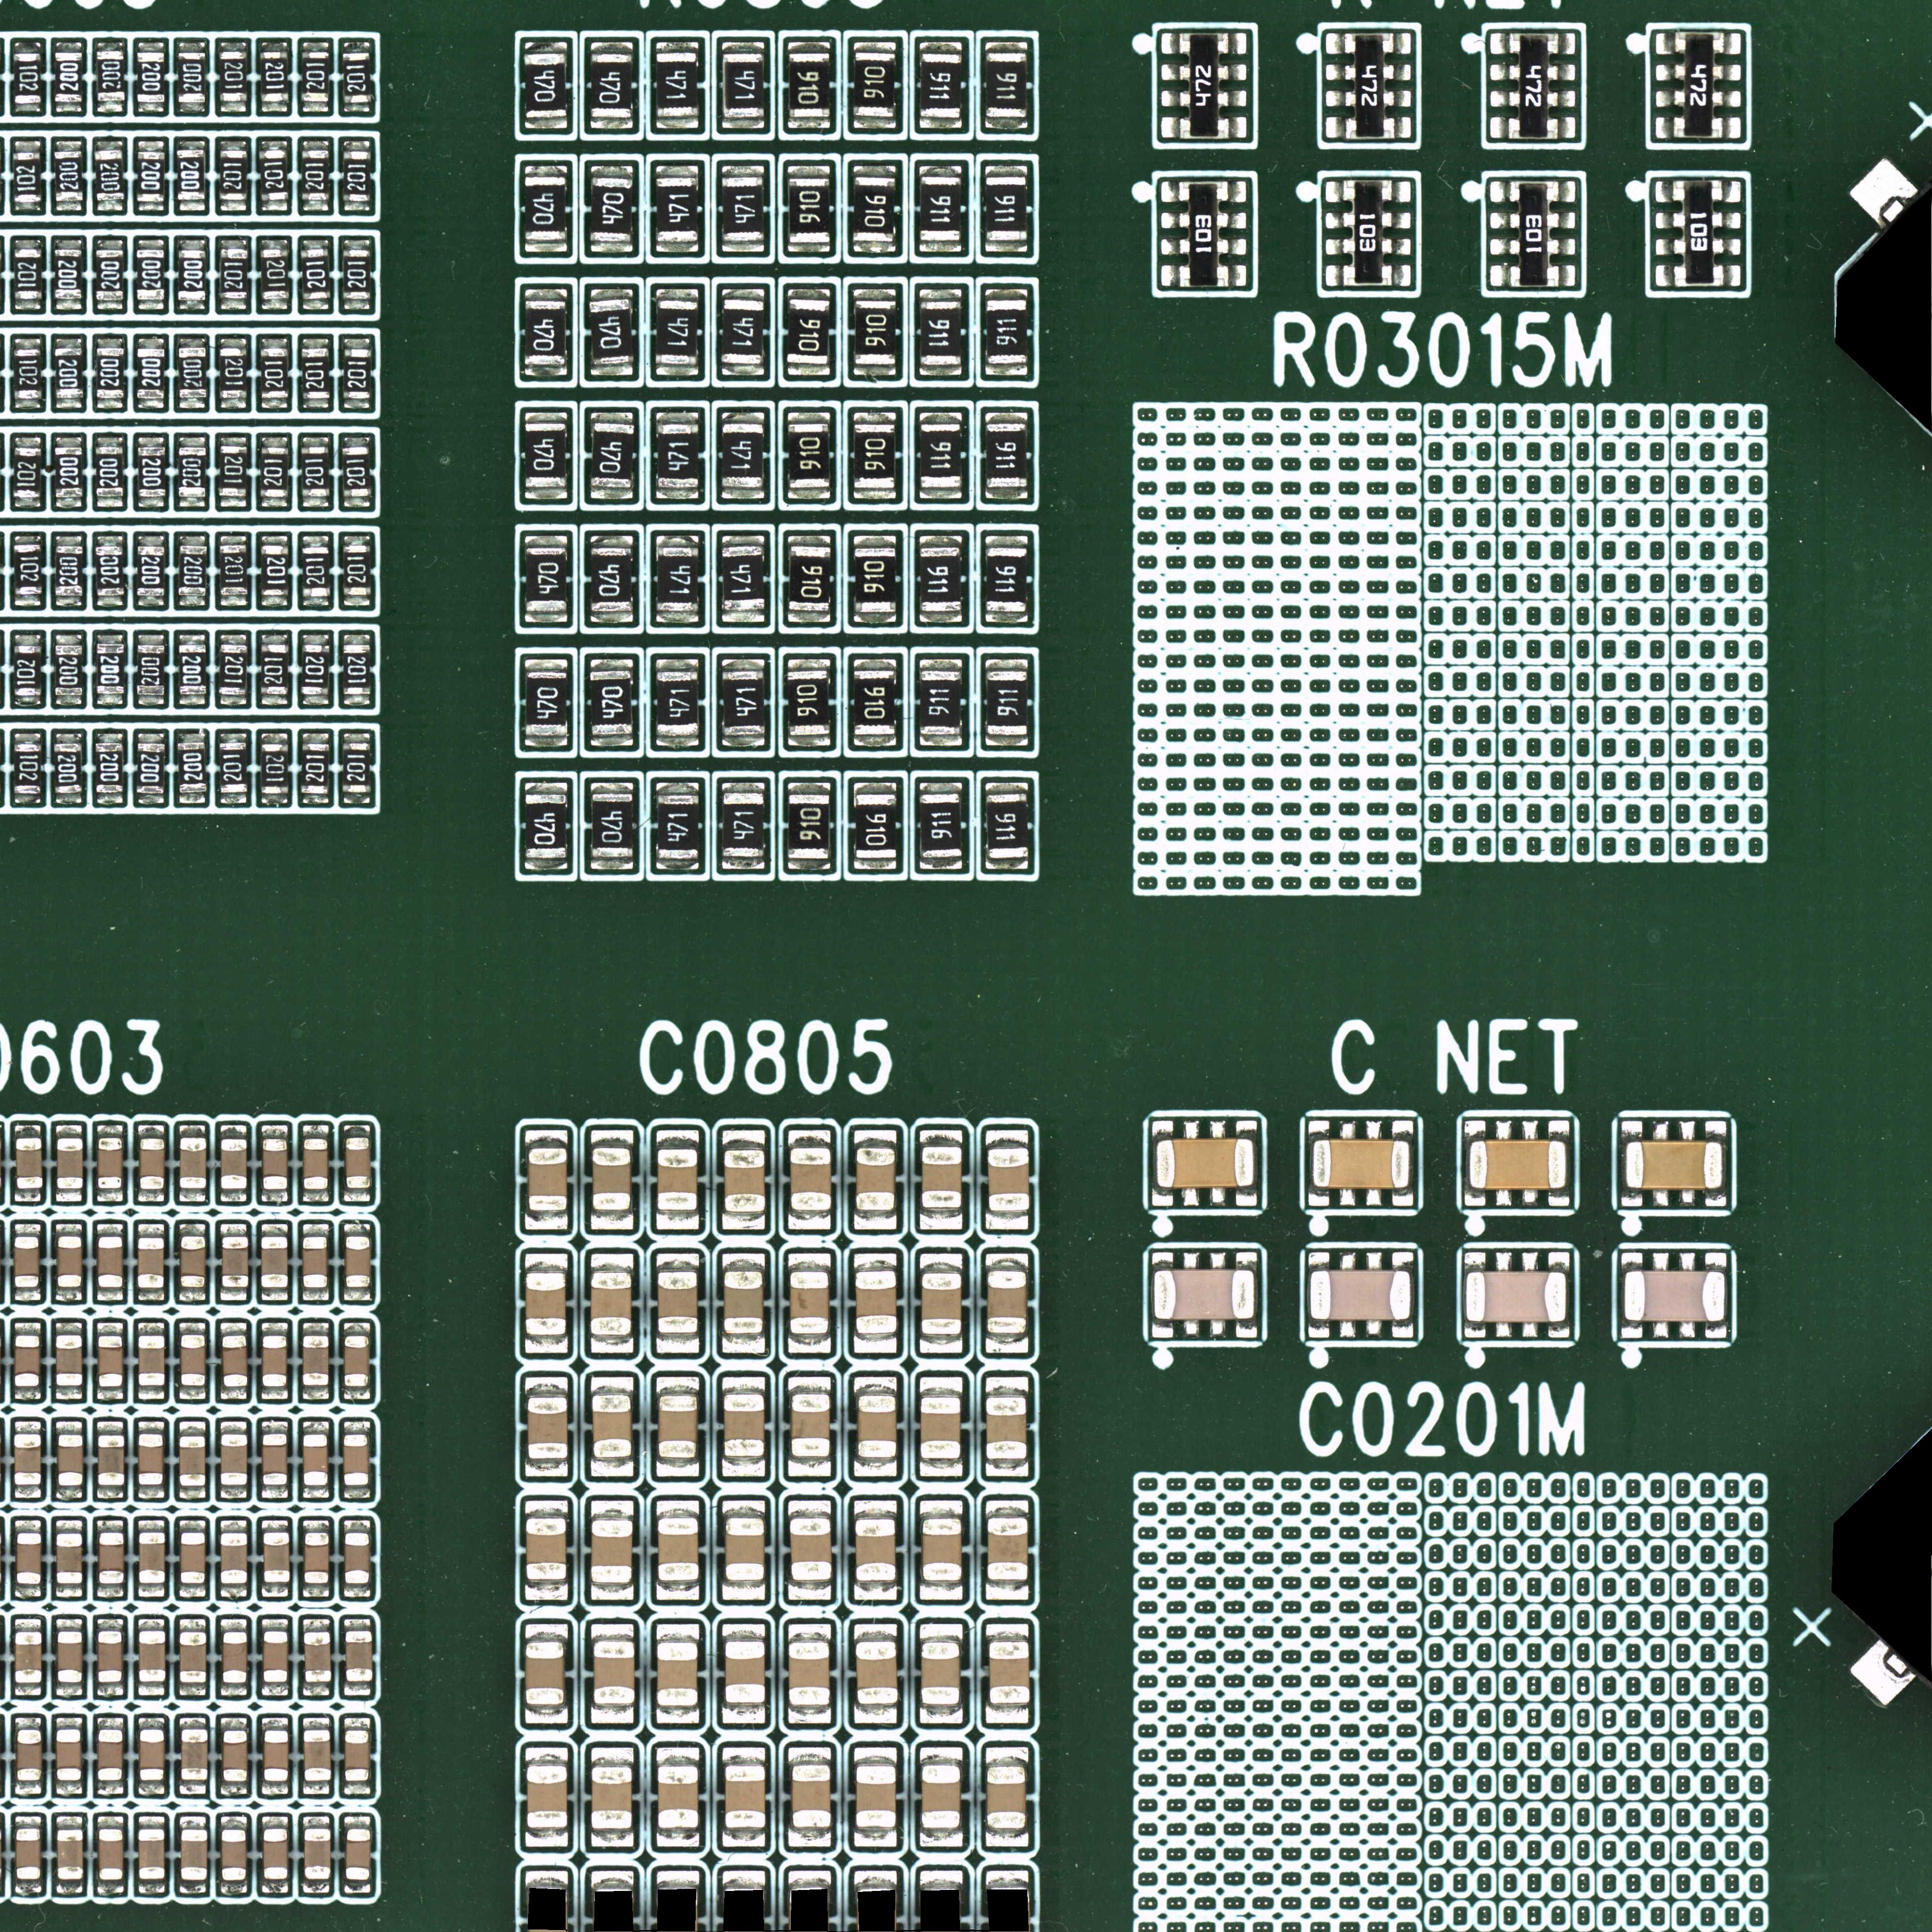Package: (1178, 182, 1230, 290), (1178, 34, 1230, 138), (1672, 182, 1723, 285), (1509, 182, 1559, 288), (1674, 32, 1723, 138), (1343, 180, 1392, 285), (1509, 34, 1559, 138), (1345, 34, 1394, 138), (1624, 1270, 1723, 1322), (1311, 1270, 1410, 1320), (1467, 1272, 1566, 1322), (1155, 1270, 1253, 1318), (1626, 1141, 1721, 1189), (1470, 1141, 1566, 1189), (1313, 1139, 1408, 1187), (1157, 1139, 1253, 1187), (589, 53, 633, 119), (655, 53, 699, 117), (656, 794, 699, 860), (656, 671, 699, 736), (722, 53, 764, 119), (787, 671, 830, 736), (722, 177, 764, 242), (591, 423, 633, 488), (591, 793, 633, 858), (589, 671, 632, 736), (722, 671, 764, 736), (787, 299, 830, 364), (525, 793, 568, 858), (656, 547, 699, 612), (525, 671, 568, 736), (589, 299, 632, 364), (722, 299, 764, 364), (722, 793, 764, 858), (722, 547, 764, 612), (524, 301, 566, 366), (985, 299, 1028, 364), (985, 671, 1028, 736), (655, 179, 697, 242), (656, 425, 699, 488), (855, 794, 897, 858), (985, 794, 1028, 858), (593, 1642, 635, 1706), (987, 1148, 1030, 1212), (789, 423, 830, 488), (722, 423, 763, 488), (789, 794, 830, 860), (591, 177, 632, 242), (920, 177, 961, 242), (920, 53, 961, 119), (920, 794, 961, 860), (525, 423, 566, 488), (591, 547, 632, 612), (920, 547, 961, 612), (525, 53, 566, 119), (525, 547, 566, 612), (920, 301, 961, 366), (656, 301, 697, 366), (985, 423, 1026, 488), (985, 547, 1026, 612), (855, 1272, 897, 1334), (789, 1148, 832, 1210), (724, 1766, 766, 1828), (855, 425, 895, 488), (855, 53, 895, 117), (855, 671, 895, 734), (855, 177, 895, 241), (789, 179, 830, 242), (789, 53, 830, 117), (920, 425, 961, 488), (855, 548, 895, 612), (920, 671, 961, 734), (525, 177, 566, 241), (855, 301, 895, 364), (789, 547, 830, 610), (985, 177, 1026, 241), (985, 53, 1026, 117), (791, 1518, 832, 1582), (658, 1518, 699, 1582), (591, 1272, 632, 1336), (789, 1642, 830, 1706), (525, 1272, 566, 1336), (856, 1642, 897, 1706), (920, 1396, 961, 1460), (922, 1518, 962, 1582), (591, 1520, 632, 1583), (985, 1396, 1026, 1460), (985, 1766, 1026, 1829), (656, 1272, 697, 1334), (789, 1272, 830, 1334), (656, 1644, 697, 1706), (855, 1520, 895, 1582), (527, 1398, 568, 1460), (525, 1518, 566, 1580), (922, 1146, 962, 1208), (791, 1766, 832, 1828), (527, 1766, 568, 1828), (527, 1148, 568, 1210), (856, 1396, 897, 1458), (656, 1148, 697, 1210), (658, 1766, 699, 1828), (591, 1767, 632, 1829), (724, 1150, 764, 1212), (724, 1394, 764, 1456), (987, 1518, 1028, 1580), (989, 1642, 1030, 1704), (725, 1518, 764, 1582), (922, 1642, 961, 1706), (525, 1642, 564, 1706), (724, 1270, 763, 1334), (658, 1396, 697, 1460), (791, 1394, 830, 1458), (987, 1270, 1026, 1334), (922, 1274, 961, 1336), (593, 1148, 632, 1210), (593, 1396, 632, 1458), (856, 1766, 895, 1828), (856, 1148, 895, 1210), (725, 1642, 764, 1704), (922, 1766, 961, 1828), (14, 1433, 42, 1486), (14, 1631, 42, 1684), (177, 51, 205, 103), (136, 51, 165, 103), (96, 150, 124, 202), (55, 545, 83, 596), (179, 347, 207, 398), (96, 249, 124, 301), (179, 545, 207, 596), (221, 1237, 249, 1288), (260, 1237, 288, 1288), (179, 1631, 207, 1683), (303, 1730, 331, 1782), (138, 1532, 166, 1583), (138, 1631, 166, 1683), (219, 1532, 248, 1583), (97, 1435, 126, 1486), (179, 1138, 207, 1189), (55, 1336, 83, 1387), (262, 1433, 288, 1486), (55, 1729, 81, 1782), (260, 349, 288, 398), (96, 349, 124, 398), (96, 547, 124, 596), (219, 150, 248, 200), (136, 249, 165, 299), (219, 545, 248, 594), (177, 150, 205, 200), (14, 545, 42, 594), (96, 644, 124, 694), (136, 547, 165, 596), (345, 1631, 373, 1681), (219, 644, 246, 695), (260, 644, 287, 695), (219, 446, 246, 497), (55, 150, 81, 202), (179, 249, 205, 301), (138, 644, 165, 695), (303, 644, 329, 695), (96, 446, 122, 497), (343, 545, 370, 596), (343, 644, 370, 695), (303, 349, 329, 400), (262, 545, 288, 596), (14, 743, 41, 794), (303, 743, 329, 794), (14, 53, 41, 104), (179, 741, 205, 793), (138, 743, 165, 794), (180, 1829, 207, 1881), (221, 1435, 248, 1486), (304, 1631, 331, 1683), (14, 1237, 41, 1288), (180, 1729, 207, 1780), (343, 1532, 370, 1583), (221, 1631, 248, 1683), (262, 1631, 288, 1683), (138, 1237, 165, 1288), (57, 1237, 83, 1288), (16, 1138, 42, 1189), (303, 1435, 329, 1486), (57, 1138, 83, 1189), (57, 1631, 83, 1683), (57, 1435, 83, 1486), (264, 1532, 290, 1583), (16, 1730, 42, 1782), (97, 1532, 124, 1583), (97, 1631, 124, 1683), (221, 1730, 248, 1782), (97, 1237, 124, 1288), (138, 1433, 165, 1484), (221, 1336, 248, 1387), (14, 1336, 41, 1387), (57, 1534, 83, 1585), (97, 1729, 124, 1780), (97, 1336, 124, 1387), (55, 448, 81, 497), (55, 646, 81, 695), (14, 152, 41, 202), (221, 249, 248, 299), (55, 249, 81, 299), (179, 644, 205, 694), (179, 448, 205, 497), (260, 448, 287, 497), (219, 51, 246, 101), (262, 249, 288, 299), (14, 249, 41, 299), (55, 53, 81, 103), (138, 448, 165, 497), (14, 349, 41, 398), (14, 646, 41, 695), (14, 448, 41, 497), (303, 150, 329, 200), (260, 150, 287, 200), (303, 547, 329, 596), (219, 349, 246, 398), (303, 51, 329, 101), (343, 249, 370, 299), (343, 53, 370, 103), (262, 745, 288, 794), (55, 349, 81, 398), (303, 249, 329, 299), (343, 743, 370, 793), (97, 51, 124, 101), (343, 349, 370, 398), (343, 448, 370, 497), (55, 743, 81, 793), (96, 743, 122, 793), (343, 152, 370, 202), (138, 349, 165, 398), (138, 152, 165, 202), (219, 743, 246, 793), (179, 1437, 205, 1486), (262, 1139, 288, 1189), (345, 1829, 372, 1879), (138, 1829, 165, 1879), (138, 1730, 165, 1780), (303, 1139, 329, 1189), (221, 1139, 248, 1189), (343, 1730, 370, 1780), (303, 1336, 329, 1385), (343, 1336, 370, 1385), (304, 1829, 331, 1879), (57, 1829, 83, 1879), (138, 1336, 165, 1385), (16, 1532, 41, 1585), (221, 1829, 246, 1881), (180, 1237, 205, 1288), (303, 1237, 327, 1288), (343, 1435, 368, 1486), (180, 1532, 205, 1583), (180, 1334, 205, 1385), (262, 1336, 287, 1387), (97, 1138, 122, 1189), (304, 1532, 329, 1583), (264, 1730, 288, 1782), (262, 51, 287, 101), (303, 448, 327, 497), (345, 1237, 370, 1286), (264, 1829, 288, 1879), (16, 1829, 41, 1879), (345, 1138, 370, 1187), (140, 1139, 165, 1189), (99, 1829, 124, 1879)
Solder: (1849, 157, 1918, 228), (1847, 1638, 1916, 1707), (920, 1208, 962, 1230), (656, 1334, 699, 1353), (722, 1334, 764, 1353), (920, 1376, 962, 1396), (656, 1129, 699, 1148), (525, 1210, 568, 1230), (855, 1210, 897, 1230), (525, 1376, 568, 1396), (985, 1376, 1028, 1396), (985, 1334, 1028, 1353), (918, 1129, 964, 1146), (789, 1129, 830, 1148), (987, 1746, 1028, 1766), (985, 1870, 1030, 1888), (920, 1870, 964, 1888), (787, 1870, 832, 1888), (656, 1870, 701, 1888), (591, 1870, 635, 1888), (591, 1212, 633, 1230), (789, 1212, 832, 1230), (920, 1254, 962, 1272), (591, 1129, 633, 1146), (656, 1212, 699, 1230), (855, 1336, 897, 1353), (591, 1336, 633, 1353), (920, 1336, 962, 1353), (591, 1254, 633, 1272), (656, 1378, 699, 1396), (855, 1376, 897, 1394), (525, 1129, 568, 1146), (855, 1129, 897, 1146), (525, 1254, 568, 1272), (525, 1336, 568, 1353), (722, 1131, 764, 1148), (920, 1748, 962, 1766), (855, 1706, 897, 1723), (656, 1460, 699, 1477), (789, 1829, 832, 1847), (591, 1460, 633, 1477), (525, 1829, 568, 1847), (920, 1706, 962, 1723), (855, 1829, 897, 1847), (855, 1500, 897, 1518), (920, 1500, 962, 1518), (855, 1460, 897, 1477), (525, 1624, 568, 1642), (656, 1500, 699, 1518), (855, 1582, 897, 1599), (920, 1582, 962, 1599), (920, 1829, 962, 1847), (525, 1582, 568, 1599), (920, 1460, 962, 1477), (789, 1500, 832, 1518), (525, 1500, 568, 1518), (525, 1460, 568, 1477), (985, 1212, 1028, 1230), (985, 1253, 1028, 1270), (985, 1829, 1028, 1847), (985, 1582, 1028, 1599), (985, 1500, 1028, 1518), (985, 1460, 1028, 1477), (855, 1870, 897, 1888), (724, 1870, 766, 1888), (525, 1870, 568, 1888), (789, 1336, 830, 1353), (593, 1748, 633, 1766), (593, 1706, 633, 1723), (658, 1829, 699, 1847), (724, 1829, 764, 1847), (789, 1458, 830, 1476), (658, 1624, 699, 1642), (724, 1460, 764, 1477), (724, 1706, 764, 1723), (724, 1582, 764, 1599), (525, 1706, 566, 1723), (922, 1624, 962, 1642), (724, 1500, 764, 1518), (987, 1706, 1028, 1723), (987, 1624, 1028, 1642), (656, 1254, 699, 1270), (855, 1254, 897, 1270), (591, 1378, 633, 1394), (722, 1378, 764, 1394), (789, 1378, 832, 1394), (656, 1748, 699, 1764), (591, 1831, 633, 1847), (656, 1707, 699, 1723), (855, 1748, 897, 1764), (656, 1583, 699, 1599), (855, 1624, 897, 1640), (591, 1583, 633, 1599), (525, 1748, 568, 1764), (591, 1502, 633, 1518), (789, 1583, 832, 1599), (985, 1131, 1028, 1146), (789, 1254, 830, 1270), (724, 1254, 764, 1270), (724, 1214, 764, 1230), (789, 1748, 830, 1764), (724, 1748, 764, 1764), (789, 1707, 830, 1723), (789, 1624, 830, 1640), (724, 1624, 764, 1640), (593, 1624, 633, 1640), (524, 410, 568, 423), (524, 241, 568, 253), (918, 858, 962, 870), (55, 1879, 85, 1897), (136, 1881, 166, 1898), (218, 1879, 248, 1897), (260, 1879, 290, 1897), (301, 1879, 331, 1897), (96, 1879, 126, 1897), (524, 41, 566, 53), (591, 42, 633, 55), (920, 41, 962, 53), (787, 363, 830, 375), (787, 410, 830, 423), (722, 410, 764, 423), (524, 364, 566, 377), (853, 488, 895, 501), (787, 488, 830, 501), (855, 117, 895, 129), (525, 165, 566, 177), (920, 364, 961, 377), (920, 288, 961, 301), (656, 410, 697, 423), (920, 241, 961, 253), (855, 536, 895, 548), (920, 658, 961, 671), (855, 780, 895, 793), (525, 658, 566, 671), (985, 410, 1026, 423), (14, 1879, 44, 1895), (179, 1879, 209, 1895), (589, 612, 633, 623), (920, 412, 962, 423), (855, 412, 897, 423), (722, 42, 764, 53), (591, 119, 633, 129), (722, 119, 764, 129), (787, 42, 830, 53), (524, 119, 566, 129), (787, 119, 830, 129), (525, 488, 568, 499), (591, 412, 633, 423), (920, 119, 962, 129), (656, 242, 699, 253), (591, 488, 633, 499), (722, 242, 764, 253), (853, 242, 895, 253), (656, 488, 699, 499), (920, 488, 962, 499), (722, 488, 764, 499), (722, 858, 764, 869), (591, 536, 633, 547), (591, 782, 633, 793), (920, 612, 962, 623), (656, 782, 699, 793), (787, 612, 830, 623), (524, 782, 566, 793), (722, 612, 764, 623), (985, 41, 1028, 51), (985, 119, 1028, 129), (985, 488, 1028, 499), (985, 288, 1028, 299), (985, 364, 1028, 375), (985, 242, 1028, 253), (985, 536, 1028, 547), (985, 780, 1028, 791), (656, 119, 697, 129), (722, 166, 763, 177), (920, 166, 961, 177), (656, 166, 697, 177), (591, 166, 632, 177), (855, 166, 895, 177), (789, 166, 830, 177), (722, 364, 763, 375), (656, 288, 697, 299), (591, 364, 632, 375), (656, 42, 697, 53), (855, 364, 895, 375), (855, 42, 895, 53), (591, 288, 632, 299), (789, 288, 830, 299), (855, 288, 895, 299), (525, 288, 566, 299), (591, 242, 632, 253), (920, 536, 961, 547), (855, 736, 895, 747), (591, 736, 632, 747), (525, 536, 566, 547), (855, 658, 895, 669), (789, 536, 830, 547), (656, 536, 697, 547), (855, 612, 895, 623), (920, 782, 961, 793), (920, 736, 961, 747), (789, 782, 830, 793), (789, 736, 830, 747), (525, 736, 566, 747), (525, 612, 566, 623), (985, 165, 1026, 175), (985, 736, 1026, 747), (724, 288, 763, 299), (1325, 117, 1345, 138), (1392, 265, 1412, 287), (1654, 265, 1674, 287), (1490, 34, 1509, 55), (1548, 1253, 1569, 1272), (1706, 1120, 1727, 1139), (1230, 180, 1247, 203), (1723, 117, 1741, 140), (1654, 117, 1672, 140), (343, 1286, 372, 1300), (55, 1520, 83, 1534), (219, 1583, 248, 1598), (524, 860, 568, 869), (1237, 1187, 1256, 1207), (55, 1322, 81, 1336), (14, 1322, 41, 1336), (14, 1421, 41, 1435), (57, 1421, 83, 1435), (138, 1224, 165, 1238), (343, 1187, 370, 1201), (179, 1422, 205, 1437), (97, 1421, 124, 1435), (343, 1421, 370, 1435), (303, 1385, 329, 1399), (14, 1387, 41, 1401), (57, 1815, 83, 1829), (138, 1583, 165, 1598), (345, 1681, 372, 1695), (262, 1583, 288, 1598), (303, 1683, 329, 1697), (57, 1583, 83, 1598), (303, 1583, 329, 1598), (343, 1583, 370, 1598), (97, 1683, 124, 1697), (97, 1583, 124, 1598), (14, 1583, 41, 1598), (787, 244, 830, 253), (591, 860, 633, 869), (855, 860, 897, 869), (787, 860, 830, 869), (656, 860, 699, 869), (722, 536, 764, 545), (656, 614, 699, 623), (1230, 117, 1247, 138), (1161, 117, 1178, 138), (1230, 265, 1247, 287), (1161, 180, 1178, 202), (1161, 265, 1178, 287), (1230, 34, 1247, 55), (1161, 34, 1178, 55), (1325, 34, 1343, 55), (1394, 180, 1412, 202), (1394, 34, 1412, 55), (985, 860, 1028, 869), (985, 660, 1028, 669), (985, 614, 1028, 623), (1392, 1253, 1414, 1270), (1152, 1120, 1173, 1138), (1152, 1320, 1173, 1338), (1307, 1122, 1329, 1139), (1392, 1320, 1414, 1338), (1307, 1189, 1329, 1207), (1392, 1122, 1414, 1139), (1392, 1189, 1414, 1207), (1559, 117, 1576, 138), (1656, 34, 1674, 55), (1490, 117, 1507, 138), (1490, 182, 1507, 203), (1465, 1253, 1486, 1270), (1706, 1253, 1727, 1270), (1465, 1122, 1486, 1139), (1548, 1122, 1569, 1139), (1621, 1253, 1642, 1270), (1621, 1122, 1642, 1139), (1548, 1189, 1569, 1207), (1325, 180, 1341, 203), (1725, 180, 1741, 203), (1656, 180, 1672, 203), (656, 366, 697, 375), (656, 738, 697, 747), (656, 660, 697, 669), (722, 660, 763, 669), (724, 782, 764, 791), (591, 660, 632, 669), (97, 1123, 122, 1138), (55, 1387, 83, 1399), (14, 1782, 42, 1794), (345, 1815, 370, 1829), (180, 1780, 205, 1794), (55, 1486, 83, 1499), (219, 1486, 248, 1499), (724, 738, 763, 747), (789, 660, 828, 669), (1228, 90, 1247, 108), (1228, 64, 1247, 81), (1161, 90, 1180, 108), (1161, 64, 1180, 81), (1325, 90, 1345, 108), (1392, 239, 1412, 257), (1325, 64, 1345, 81), (1309, 1320, 1329, 1338), (1309, 1253, 1329, 1270), (1237, 1320, 1256, 1338), (1237, 1120, 1256, 1138), (1654, 239, 1674, 257), (1654, 90, 1674, 108), (1490, 239, 1509, 257), (1557, 90, 1576, 108), (1490, 212, 1509, 230), (1557, 64, 1576, 81), (1656, 64, 1675, 81), (1465, 1189, 1484, 1207), (1706, 1189, 1725, 1207), (1490, 90, 1509, 108), (1325, 265, 1341, 287), (1396, 117, 1412, 138), (1152, 1253, 1173, 1269), (1152, 1189, 1173, 1205), (1725, 265, 1741, 287), (1725, 34, 1741, 55), (1560, 180, 1576, 202), (1560, 34, 1576, 55), (1560, 265, 1576, 287), (1490, 265, 1506, 287), (1706, 1322, 1727, 1338), (1621, 1322, 1642, 1338), (1621, 1191, 1642, 1207), (1548, 1322, 1569, 1338), (55, 140, 81, 152), (55, 41, 81, 53), (14, 41, 41, 53), (55, 633, 81, 646), (14, 1224, 41, 1237), (221, 1224, 248, 1237), (262, 1323, 288, 1336), (97, 1323, 124, 1336), (221, 1288, 248, 1300), (262, 1224, 288, 1237), (303, 1323, 329, 1336), (262, 1288, 288, 1300), (343, 1323, 370, 1336), (138, 1323, 165, 1336), (179, 1189, 205, 1201), (97, 1288, 124, 1300), (219, 1189, 246, 1201), (303, 1288, 329, 1300), (179, 1288, 205, 1300), (262, 1189, 288, 1201), (57, 1125, 83, 1138), (138, 1189, 165, 1201), (303, 1189, 329, 1201), (303, 1224, 329, 1237), (138, 1421, 165, 1433), (14, 1125, 41, 1138), (138, 1288, 165, 1300), (303, 1422, 329, 1435), (343, 1387, 370, 1399), (14, 1288, 41, 1300), (97, 1387, 124, 1399), (138, 1387, 165, 1399), (55, 1288, 81, 1300), (179, 1387, 205, 1399), (262, 1387, 288, 1399), (221, 1387, 248, 1399), (14, 1189, 41, 1201), (180, 1817, 207, 1829), (138, 1817, 165, 1829), (262, 1782, 288, 1794), (262, 1718, 288, 1730), (221, 1718, 248, 1730), (262, 1817, 288, 1829), (57, 1782, 83, 1794), (97, 1782, 124, 1794), (345, 1619, 372, 1631), (303, 1782, 329, 1794), (138, 1782, 165, 1794), (221, 1782, 248, 1794), (14, 1520, 41, 1532), (97, 1815, 124, 1828), (303, 1718, 329, 1730), (138, 1683, 165, 1695), (343, 1520, 370, 1532), (138, 1619, 165, 1631), (179, 1683, 205, 1695), (221, 1520, 248, 1532), (221, 1683, 248, 1695), (262, 1619, 288, 1631), (97, 1520, 124, 1532), (57, 1683, 83, 1695), (179, 1583, 205, 1596), (138, 1520, 165, 1532), (262, 1683, 288, 1695), (14, 1619, 41, 1631), (14, 1683, 41, 1695), (303, 1619, 329, 1631), (303, 1520, 329, 1532), (138, 1486, 165, 1499), (179, 1486, 205, 1499), (97, 1486, 124, 1499), (57, 1619, 83, 1631), (97, 1619, 124, 1631), (262, 1486, 288, 1499), (343, 1486, 370, 1499), (303, 1486, 329, 1499), (14, 1486, 41, 1499), (343, 1881, 370, 1893), (1394, 90, 1412, 108), (1394, 64, 1412, 81), (1182, 1187, 1200, 1205), (1723, 212, 1741, 230), (1723, 90, 1741, 108), (1723, 64, 1741, 81), (1522, 1253, 1539, 1270), (1522, 1122, 1539, 1139), (1522, 1189, 1539, 1207), (1228, 212, 1247, 228), (1161, 212, 1180, 228), (1161, 239, 1180, 255), (1392, 212, 1412, 228), (1237, 1253, 1256, 1269), (1210, 1318, 1226, 1338), (1654, 212, 1674, 228), (1465, 1322, 1484, 1338), (1490, 64, 1509, 80), (221, 1323, 246, 1336), (180, 1224, 205, 1237), (57, 1224, 81, 1237), (345, 1224, 370, 1237), (97, 1224, 122, 1237), (345, 1125, 370, 1138), (97, 1189, 122, 1201), (221, 1422, 246, 1435), (57, 1189, 81, 1201), (303, 1125, 327, 1138), (221, 1125, 246, 1138), (262, 1125, 287, 1138), (140, 1125, 165, 1138), (221, 1817, 246, 1829), (180, 1619, 205, 1631), (221, 1619, 246, 1631), (345, 1782, 370, 1794), (345, 1718, 370, 1730), (180, 1520, 205, 1532), (16, 1716, 41, 1729), (57, 1716, 81, 1729), (177, 140, 205, 150), (136, 596, 165, 607), (262, 299, 288, 310), (55, 437, 81, 448), (303, 200, 329, 211), (303, 101, 329, 111), (303, 299, 329, 310), (343, 299, 370, 310), (303, 140, 329, 150), (55, 299, 81, 310), (14, 437, 41, 448), (14, 142, 41, 152), (343, 42, 370, 53), (96, 200, 122, 211), (179, 299, 205, 310), (97, 101, 124, 111), (343, 398, 370, 409), (179, 398, 205, 409), (138, 142, 165, 152), (138, 299, 165, 310), (179, 200, 205, 211), (96, 140, 122, 150), (14, 398, 41, 409), (343, 239, 370, 249), (97, 41, 124, 51), (55, 200, 81, 211), (14, 497, 41, 508), (55, 239, 81, 249), (179, 41, 205, 51), (303, 239, 329, 249), (303, 338, 329, 349), (303, 497, 329, 508), (138, 497, 165, 508), (138, 239, 165, 249), (96, 239, 122, 249), (179, 239, 205, 249), (262, 497, 288, 508), (179, 497, 205, 508), (179, 336, 205, 347), (97, 336, 124, 347), (262, 694, 288, 704), (179, 694, 205, 704), (221, 594, 248, 605), (14, 594, 41, 605), (14, 695, 41, 706), (303, 694, 329, 704), (343, 694, 370, 704), (55, 596, 81, 607), (343, 594, 370, 605), (97, 694, 124, 704), (179, 594, 205, 605), (303, 536, 329, 547), (343, 793, 370, 803), (343, 732, 370, 743), (138, 536, 165, 547), (303, 732, 329, 743), (14, 635, 41, 646), (138, 732, 165, 743), (219, 793, 246, 803), (97, 633, 124, 644), (179, 1323, 205, 1334), (262, 1422, 288, 1433), (303, 1817, 329, 1828), (262, 1522, 288, 1532), (97, 1718, 124, 1729), (1228, 239, 1246, 255), (1325, 212, 1343, 228), (1325, 239, 1343, 255), (1184, 1120, 1200, 1138), (1366, 1122, 1382, 1139), (1366, 1253, 1382, 1270), (1366, 1320, 1382, 1338), (1366, 1189, 1382, 1207), (1339, 1320, 1355, 1338), (1210, 1120, 1226, 1138), (1339, 1253, 1355, 1270), (1210, 1187, 1226, 1205), (1339, 1189, 1355, 1207), (1339, 1122, 1355, 1139), (1559, 212, 1576, 228), (1559, 239, 1576, 255), (1723, 239, 1741, 255), (1652, 1253, 1668, 1270), (1495, 1253, 1511, 1270), (1652, 1189, 1668, 1207), (1679, 1253, 1695, 1270), (1652, 1122, 1668, 1139), (1495, 1122, 1511, 1139), (1679, 1122, 1695, 1139), (1679, 1189, 1695, 1207), (1679, 1320, 1695, 1338), (221, 299, 246, 310), (221, 101, 246, 111), (262, 200, 287, 211), (221, 200, 246, 211), (262, 101, 287, 111), (57, 103, 81, 113), (16, 299, 41, 310), (16, 338, 41, 349), (262, 398, 287, 409), (57, 398, 81, 409), (221, 398, 246, 409), (304, 398, 329, 409), (138, 398, 163, 409), (345, 338, 370, 349), (97, 398, 122, 409), (57, 497, 81, 508), (262, 239, 287, 249), (97, 497, 122, 508), (16, 239, 41, 249), (262, 41, 287, 51), (345, 497, 370, 508), (221, 41, 246, 51), (262, 594, 287, 605), (97, 536, 122, 547), (262, 732, 287, 743), (57, 793, 81, 803), (16, 793, 41, 803), (97, 793, 122, 803), (16, 732, 41, 743), (57, 732, 81, 743), (180, 1125, 205, 1136), (180, 1718, 205, 1729), (16, 1817, 41, 1828), (140, 1718, 165, 1729), (1184, 1320, 1200, 1336), (1184, 1253, 1200, 1269), (1210, 1253, 1226, 1269), (1652, 1322, 1668, 1338), (1522, 1322, 1537, 1338), (177, 732, 205, 741), (1497, 1189, 1511, 1207), (343, 103, 370, 111), (14, 103, 41, 111), (343, 142, 370, 150), (343, 437, 370, 446), (179, 103, 205, 111), (345, 202, 372, 211), (179, 437, 205, 446), (138, 202, 165, 211), (303, 42, 329, 51), (14, 202, 41, 211), (138, 437, 165, 446), (138, 103, 165, 111), (138, 338, 165, 347), (219, 338, 246, 347), (219, 497, 246, 506), (138, 42, 165, 51), (219, 695, 246, 704), (138, 695, 165, 704), (303, 596, 329, 605), (14, 536, 41, 545), (219, 732, 246, 741), (343, 635, 370, 644), (179, 635, 205, 644), (138, 635, 165, 644), (303, 635, 329, 644), (96, 732, 122, 741), (303, 794, 329, 803), (138, 794, 165, 803), (179, 794, 205, 803), (262, 794, 288, 803), (1497, 1322, 1511, 1338), (221, 142, 246, 150), (262, 142, 287, 150), (221, 437, 246, 446), (262, 437, 287, 446), (303, 437, 327, 446), (97, 301, 122, 310), (97, 437, 122, 446), (57, 338, 81, 347), (262, 338, 287, 347), (221, 239, 246, 248), (57, 695, 81, 704), (57, 536, 81, 545), (97, 596, 122, 605), (345, 536, 370, 545), (262, 536, 287, 545), (221, 536, 246, 545), (221, 635, 246, 644), (180, 536, 205, 545), (262, 635, 287, 644), (722, 504, 764, 506), (787, 504, 830, 506), (855, 504, 895, 506), (656, 504, 697, 506)
